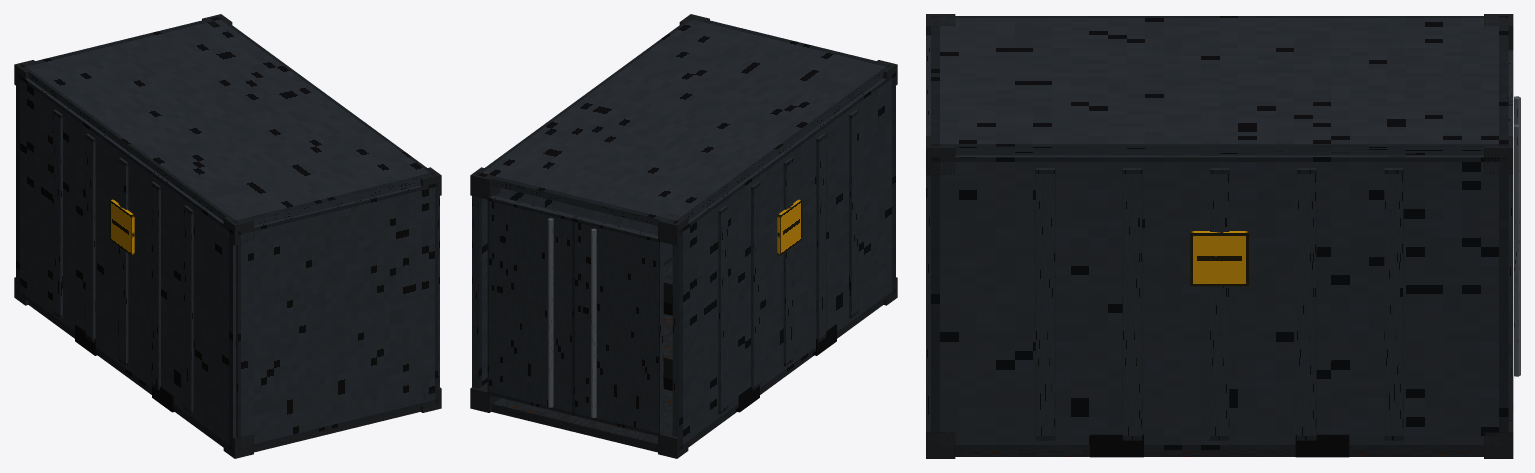
Rendered from cargo_container.glb.
3 renders of one model, left to right at view 1: azimuth 30°, elevation 25°; view 2: azimuth 150°, elevation 25°; view 3: azimuth 270°, elevation 25°, orthographic. The views are drawn at different scales.
Visible parts, largest first — view 1: cargo_container; view 2: cargo_container; view 3: cargo_container.
Boxes of the visible parts, <box> form: cargo_container: <box>14,14,441,458</box>; cargo_container: <box>470,14,897,458</box>; cargo_container: <box>926,14,1520,458</box>.
Size of the model in its own units: 1.35 by 1.4 by 2.43.
1 material, 1 textured.
